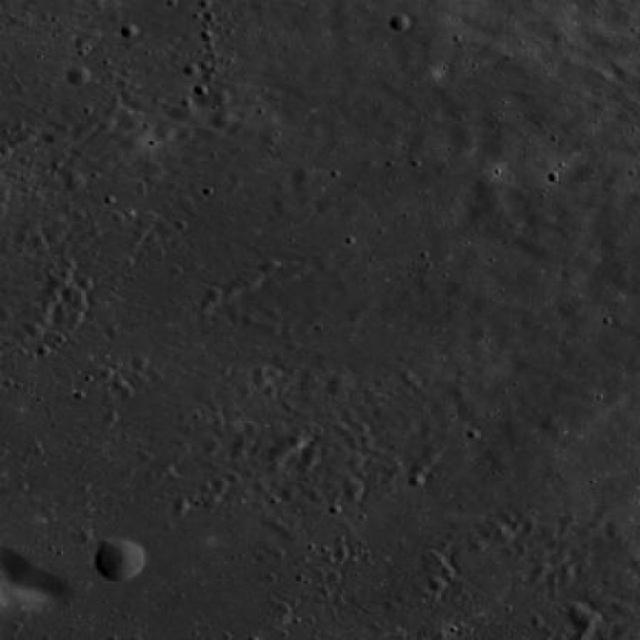crater: (93, 537, 147, 583), (566, 603, 602, 632), (210, 110, 238, 132), (66, 66, 92, 88), (276, 262, 302, 284), (445, 546, 470, 568), (172, 103, 197, 123), (118, 111, 142, 131), (124, 134, 148, 154), (268, 444, 290, 464), (390, 13, 412, 32), (197, 124, 220, 142), (156, 125, 177, 144), (344, 482, 366, 500), (43, 228, 65, 246), (144, 162, 166, 180), (458, 400, 480, 418), (201, 438, 222, 456), (294, 167, 316, 184), (234, 436, 254, 453), (613, 600, 633, 617), (213, 90, 233, 107), (259, 259, 279, 276), (46, 274, 66, 291), (52, 217, 72, 234), (104, 104, 124, 121), (312, 195, 332, 212), (239, 269, 259, 286), (131, 356, 151, 372), (261, 323, 281, 339), (611, 624, 631, 640), (222, 406, 242, 422), (130, 96, 150, 112), (17, 132, 37, 148), (43, 130, 62, 146), (430, 578, 448, 594), (497, 530, 515, 546), (446, 384, 464, 400)
